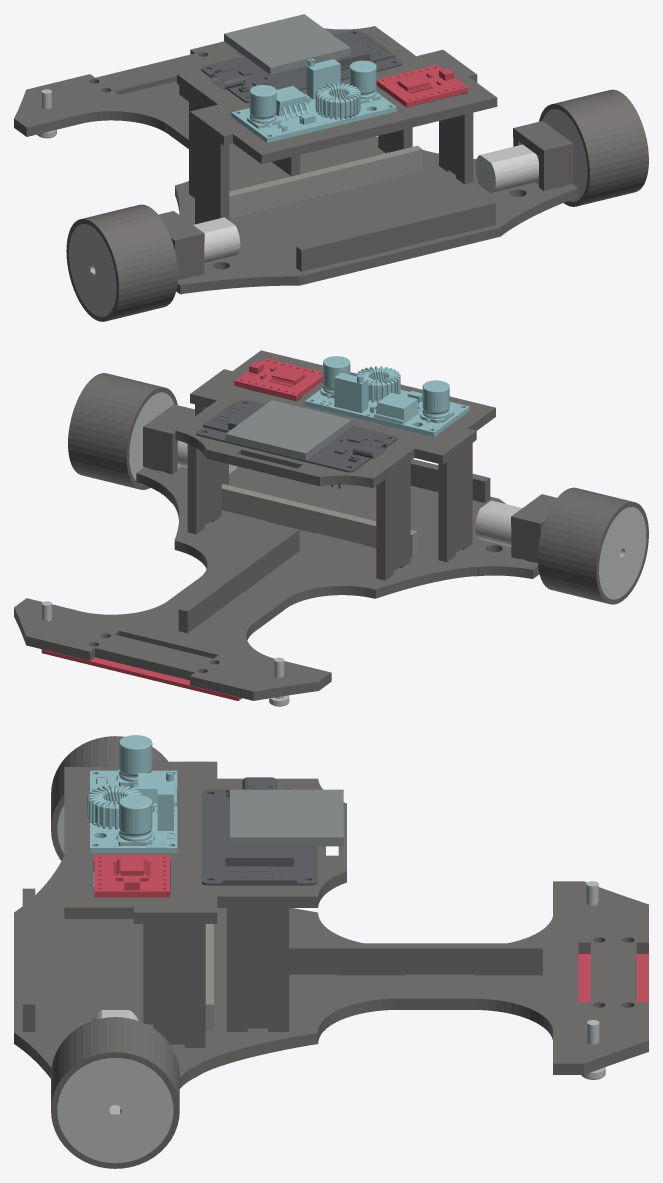
Rendered from LineBot-Hardware.glb.
3 views of the same model, one above another, from view 1: azimuth 30°, elevation 25°; view 2: azimuth 150°, elevation 25°; view 3: azimuth 270°, elevation 25° (orthographic). The views are drawn at different scales.
Parts seen in each view (by area): view 1: Mesh_Mesh_head_geo.001_lambert2SG.001; view 2: Mesh_Mesh_head_geo.001_lambert2SG.001; view 3: Mesh_Mesh_head_geo.001_lambert2SG.001.
Boxes of the visible parts, left/top/right/bottom form: Mesh_Mesh_head_geo.001_lambert2SG.001: left=14, top=14, right=648, bottom=321; Mesh_Mesh_head_geo.001_lambert2SG.001: left=14, top=350, right=648, bottom=706; Mesh_Mesh_head_geo.001_lambert2SG.001: left=14, top=735, right=648, bottom=1168.
Bounding box in the file's own units: 0.1799 × 0.0594 × 0.1528.
